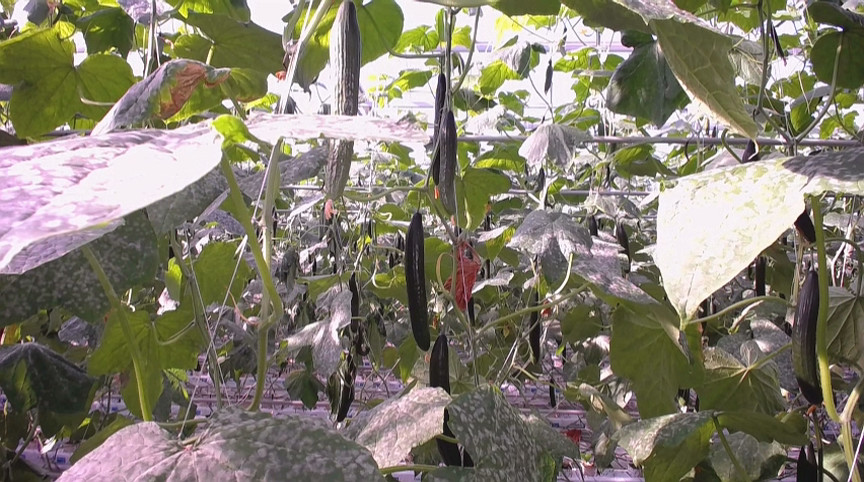cucumber: (325, 1, 360, 200), (429, 336, 469, 468), (796, 271, 823, 403), (406, 214, 430, 351), (438, 109, 459, 216)
